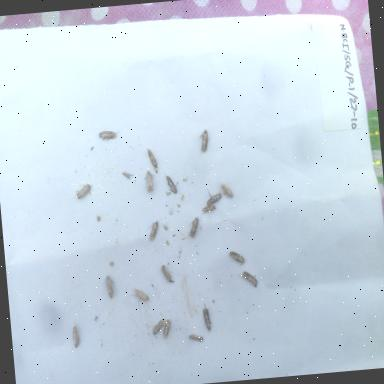pbw: (146, 219, 164, 248), (70, 320, 84, 357), (237, 268, 260, 290), (100, 273, 118, 301), (184, 214, 201, 243), (197, 126, 213, 156), (130, 286, 150, 310), (162, 169, 180, 195), (200, 300, 214, 333), (204, 186, 224, 207), (144, 146, 160, 172), (97, 126, 121, 143), (74, 180, 94, 200), (160, 262, 176, 287), (217, 178, 235, 200), (160, 316, 176, 340), (228, 249, 248, 268), (150, 316, 168, 337), (143, 168, 157, 195), (200, 202, 218, 216), (188, 332, 204, 344), (121, 168, 134, 181)
